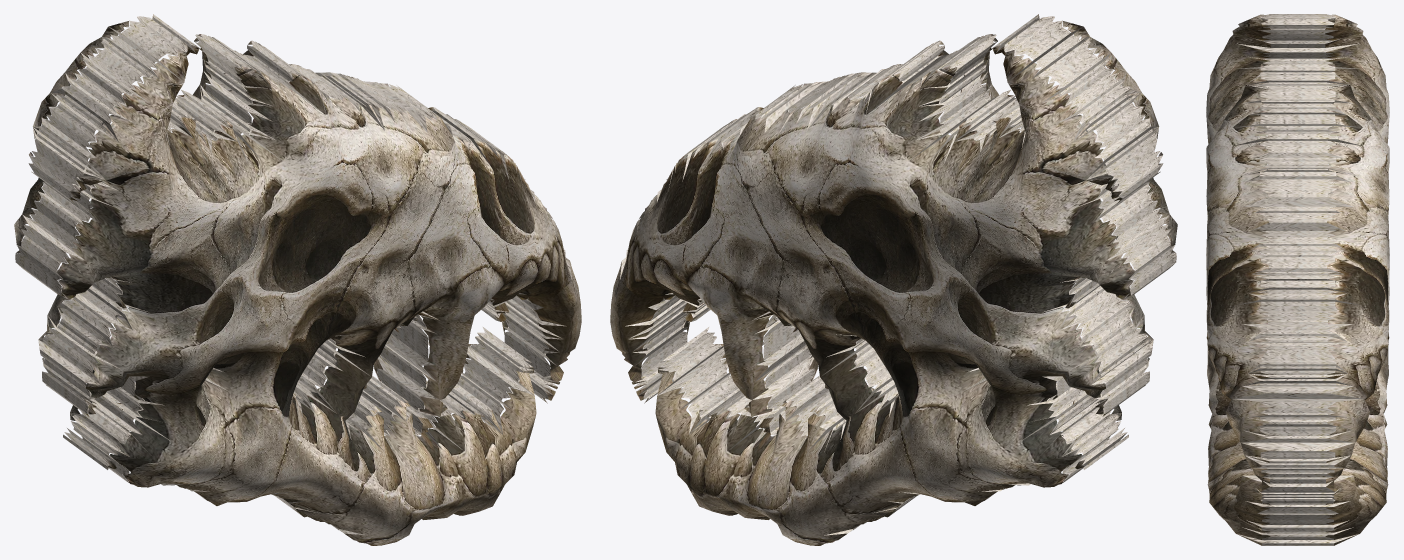
File: Jotunheim_Bone_Skull.glb
The picture shows the model from 3 angles, left to right: view 1: azimuth 30°, elevation 25°; view 2: azimuth 150°, elevation 25°; view 3: azimuth 270°, elevation 25°; orthographic projection. The views are drawn at different scales.
Visible parts, largest first — view 1: Jotunheim_Bone_Skull; view 2: Jotunheim_Bone_Skull; view 3: Jotunheim_Bone_Skull.
Boxes of the visible parts, x1=… form: Jotunheim_Bone_Skull: x1=14, y1=14, x2=581, y2=545; Jotunheim_Bone_Skull: x1=610, y1=14, x2=1177, y2=545; Jotunheim_Bone_Skull: x1=1206, y1=14, x2=1389, y2=545.
Bounding box in the file's own units: 0.9844 × 0.9883 × 0.386.
Materials: 1 (1 with a texture image).
